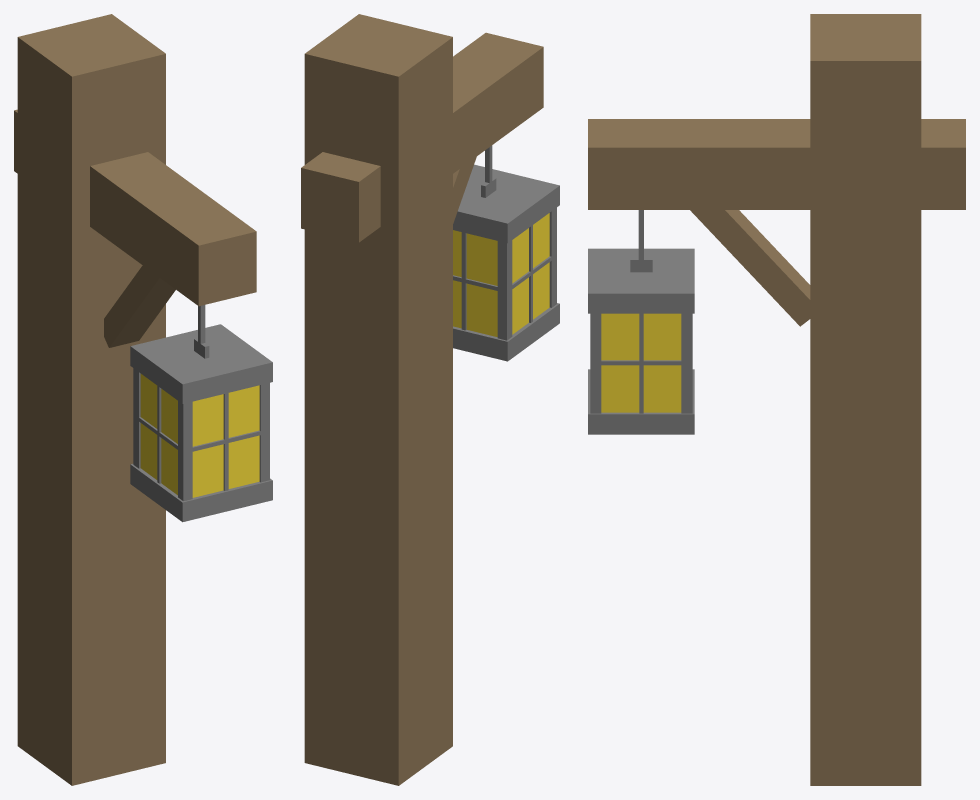
Rendered from lantern_standing.glb.
The picture shows the model from 3 angles, left to right: view 1: azimuth 30°, elevation 25°; view 2: azimuth 150°, elevation 25°; view 3: azimuth 270°, elevation 25°; orthographic projection. The views are drawn at different scales.
Visible parts, largest first — view 1: lantern_standing; view 2: lantern_standing; view 3: lantern_standing.
Part boxes in pixels (bbox=[...]): lantern_standing: bbox=[14, 14, 272, 785]; lantern_standing: bbox=[301, 14, 559, 785]; lantern_standing: bbox=[588, 14, 965, 785].
Bounding box in the file's own units: 0.25 × 1.8 × 0.85.
